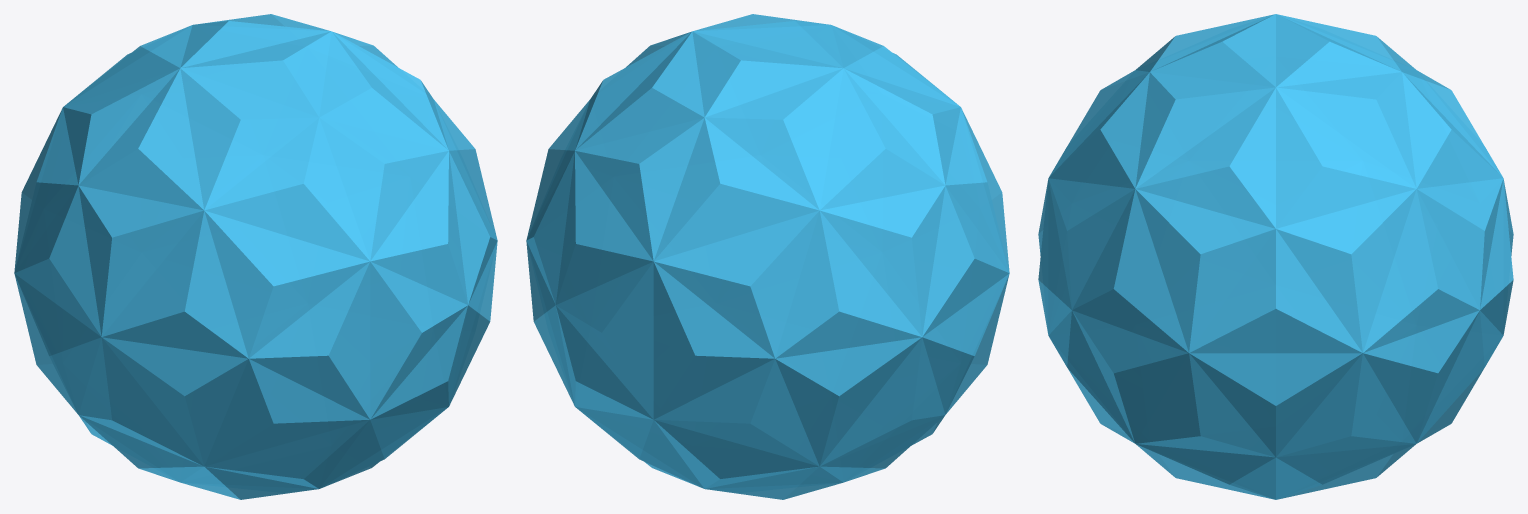
The model's file is SmallHexagonalHexecontahedron.obj.
The picture shows the model from 3 angles, left to right: view 1: azimuth 30°, elevation 25°; view 2: azimuth 150°, elevation 25°; view 3: azimuth 270°, elevation 25°; orthographic projection.
Bounding box in the file's own units: 2.73 × 2.73 × 2.73.
